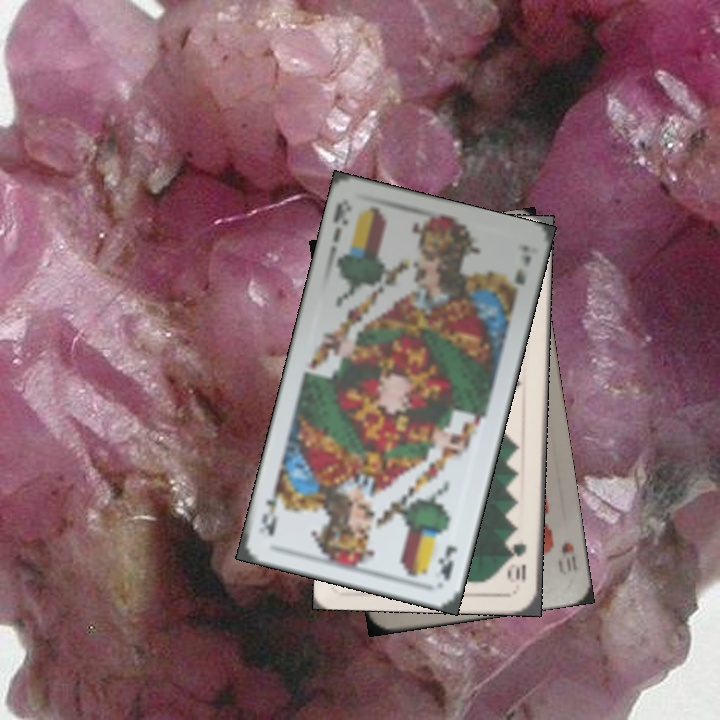EK: (329, 198, 355, 245), (435, 541, 461, 582)
G10: (506, 539, 529, 585)
H10: (554, 538, 577, 578)
